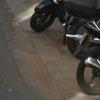Motorcycle: (27, 1, 100, 94)
